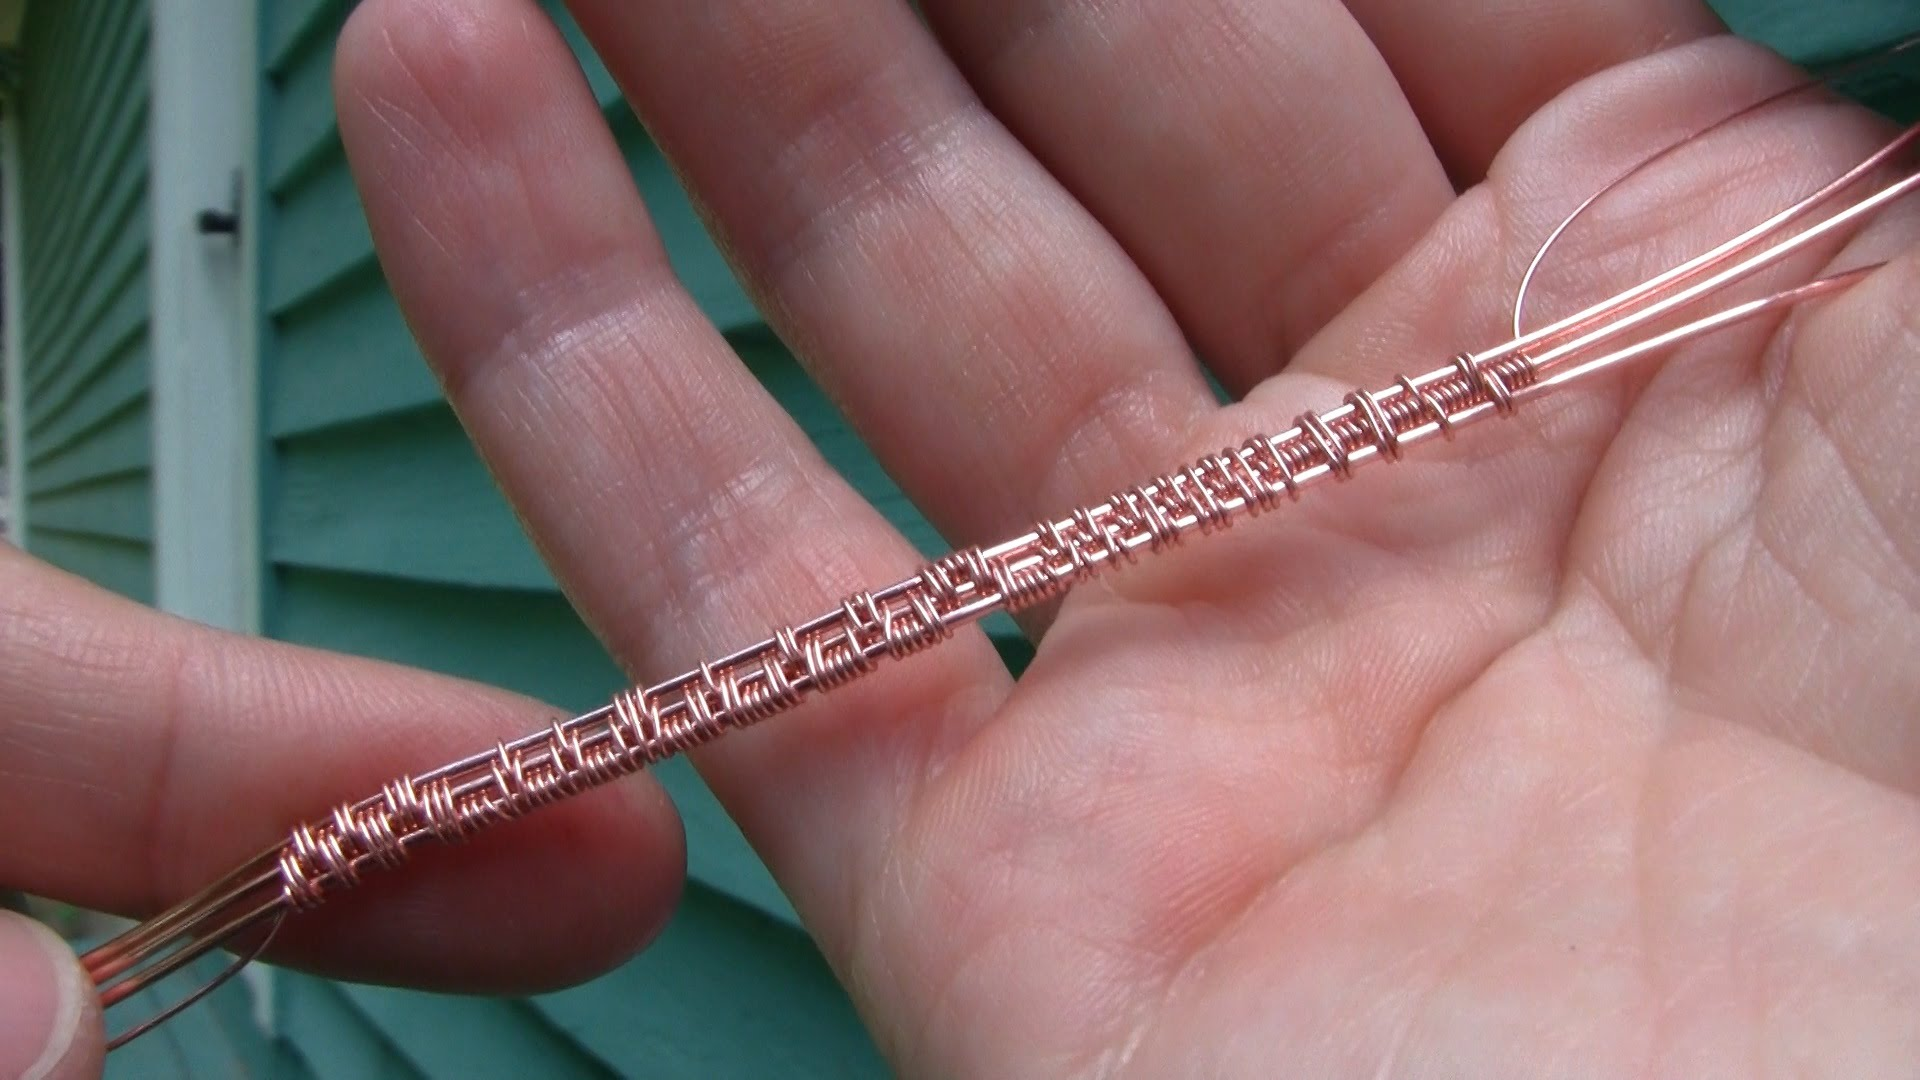Nonrec_Tangler: (75, 78, 1904, 957)
